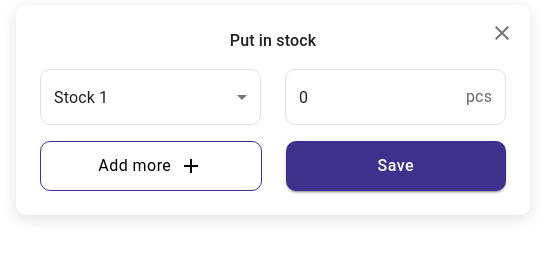
PutInStockPopup › shows error when trying to save with no quantity
# Try to save with quantity 0
What coordinates should you click on to do the following:
click the button "Save"
I would click on:
 (396, 166)
Its box is left=286, top=141, right=506, bottom=191.
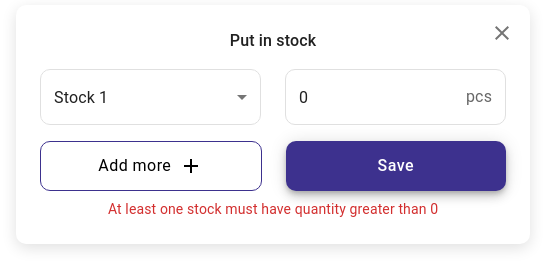
Result: the text "At least one stock must have quantity greater than 0" is shown at left=108, top=201, right=438, bottom=217
